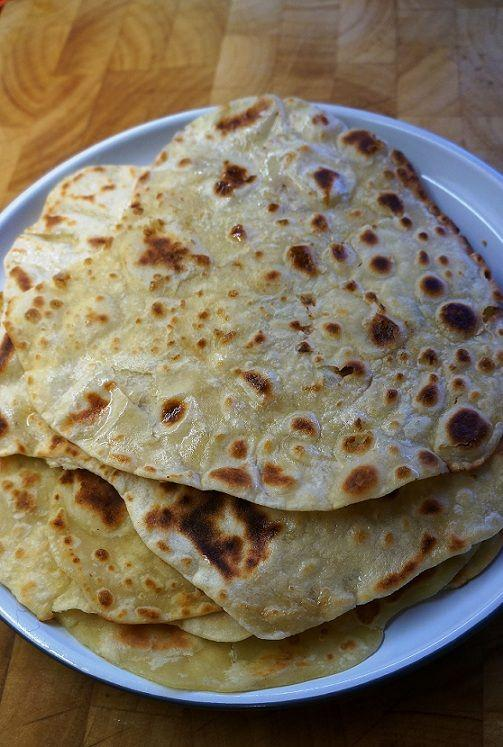roti phulka: (0, 80, 503, 722)
